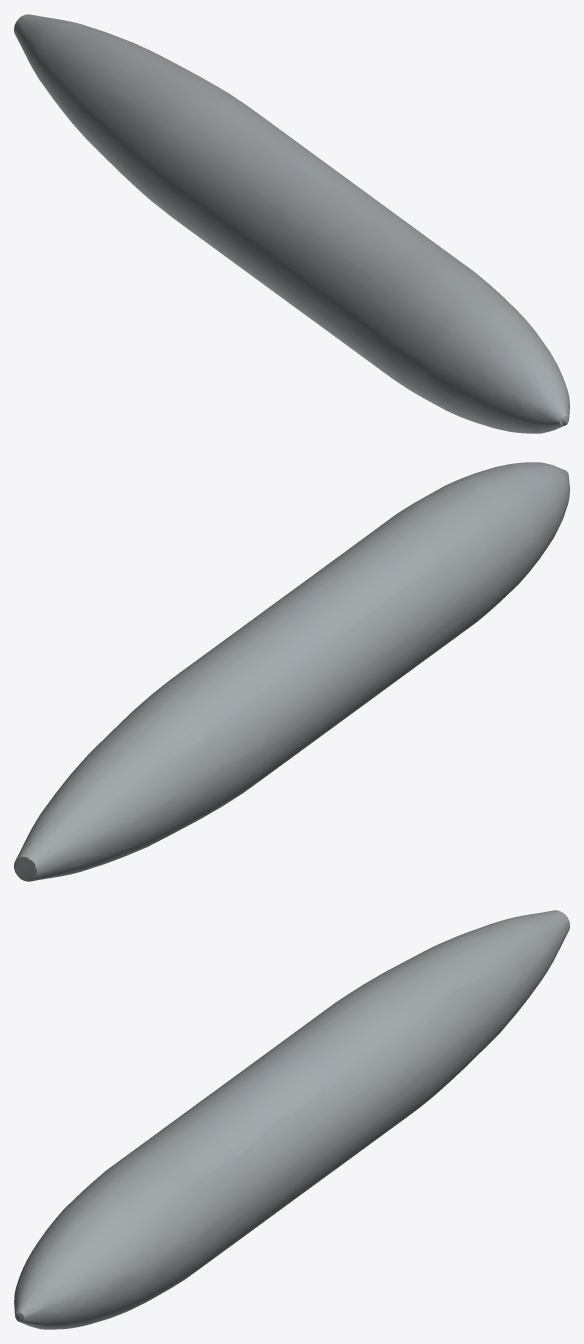
File: gripentank1100l.glb
The picture shows the model from 3 angles, top to bottom: view 1: azimuth 30°, elevation 25°; view 2: azimuth 150°, elevation 25°; view 3: azimuth 330°, elevation 25°; orthographic projection.
Visible parts, largest first — view 1: airframe; view 2: airframe; view 3: airframe.
Boxes of the visible parts, x1,y1,x2,y2 form: airframe: (14, 14, 569, 433); airframe: (14, 462, 569, 881); airframe: (14, 910, 569, 1329).
Size of the model in its own units: 0.6366 by 0.6366 by 5.09.
Materials: 1 (1 with a texture image).
